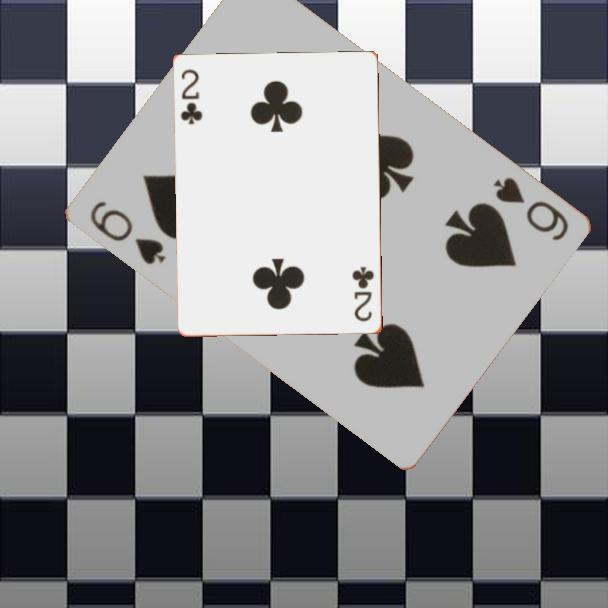c02: (177, 66, 206, 127), (349, 264, 377, 325)
s06: (85, 197, 169, 268), (489, 173, 571, 244)
